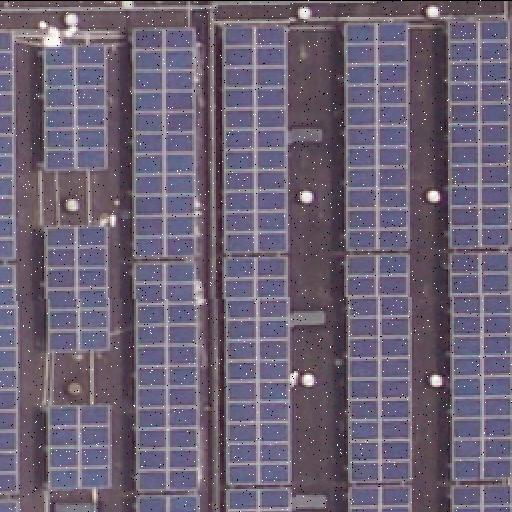solar-panel: (222, 20, 286, 256), (223, 256, 289, 484), (448, 18, 512, 250), (448, 253, 512, 483), (344, 24, 408, 252), (132, 28, 196, 256), (346, 256, 410, 480), (137, 262, 199, 490), (44, 45, 108, 171), (46, 227, 110, 349), (49, 405, 111, 491), (0, 266, 20, 494), (1, 34, 15, 258), (448, 484, 512, 512), (349, 484, 411, 512), (230, 489, 290, 511), (138, 496, 198, 512), (0, 500, 20, 512)
